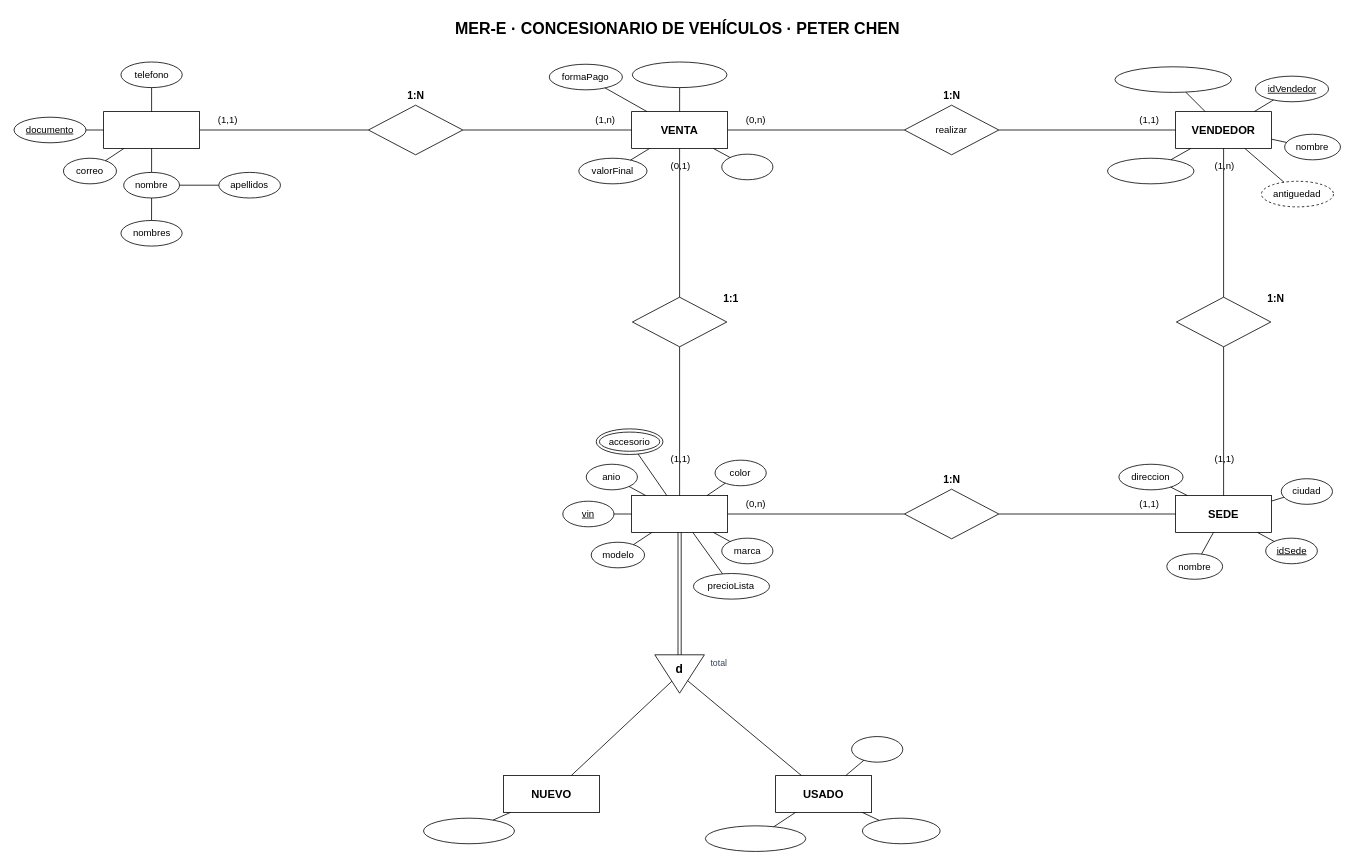
Some shapes in this 1355 by 866 pixel diagram are drawn without their labels. Here are the shapes that lost their labels. From the top down, the centre of each, then its label:
pixel 679 74: numeroFactura
pixel 1172 79: porcentajeComision
pixel 151 129: CLIENTE
pixel 415 129: comprar
pixel 747 166: fecha
pixel 1150 170: fechaIngreso
pixel 679 321: registrar
pixel 1223 321: trabajar
pixel 679 513: VEHICULO
pixel 951 513: exhibir
pixel 877 749: placa
pixel 468 830: garantiaMeses
pixel 755 838: numPropietarios
pixel 901 830: kilometraje
